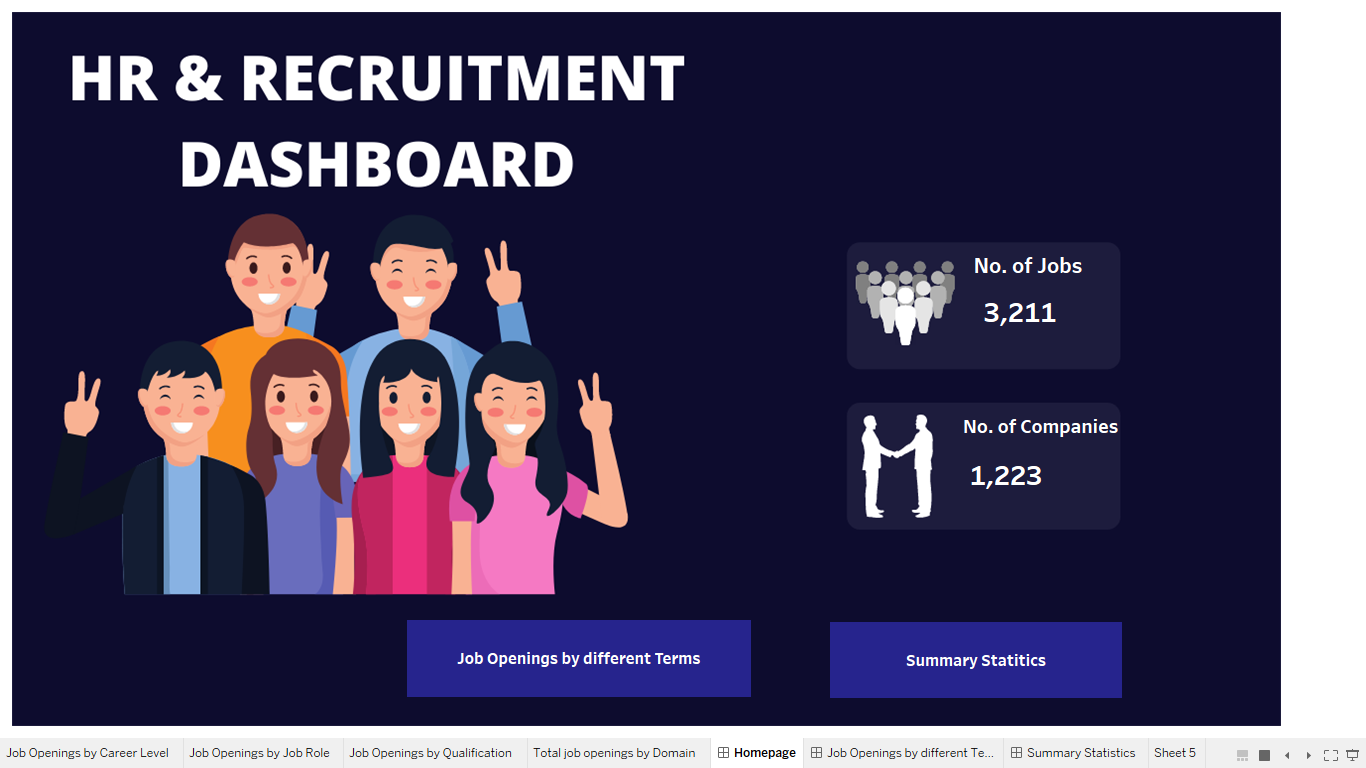

The dashboard page shown, as its layout file describes it:
{"tool":"tableau","page":{"name":"Homepage","canvas":[1000,1000],"units":"permille","ordinal":0},"visuals":[{"type":"worksheet","box":[0,0,1000,1000]},{"type":"worksheet","param":"vert","box":[6.9,13.5,986.1,973]},{"type":"worksheet","box":[6.9,13.5,986.1,973]},{"type":"worksheet","param":"C:/Users/Dinesh Kumar Verma/Downloads/Tableau Projects-20220403T035744Z-001/Tabl","box":[6.9,13.5,986.1,973]},{"type":"worksheet","box":[684.3,327.7,110.2,62.5]},{"type":"worksheet","box":[718.1,397,86.7,50.7]},{"type":"worksheet","box":[680,545.6,140.5,60.8]},{"type":"worksheet","box":[707.7,618.2,86.7,50.7]},{"type":"worksheet","box":[297.8,839.5,252,104.7]},{"type":"worksheet","box":[607.8,842.9,213.8,103]}]}

Visuals, with their boxes on the dashboard's canvas, which has no fixed pixel size, in thousandths of its width and height (x1, y1, x2, y2). These are canvas units, not pixel positions in the 1366x768 screenshot, which may show the page scaled, cropped or inside an application window:
worksheet: l=0, t=0, r=1000, b=1000
worksheet: l=7, t=14, r=993, b=986
worksheet: l=7, t=14, r=993, b=986
worksheet: l=7, t=14, r=993, b=986
worksheet: l=684, t=328, r=794, b=390
worksheet: l=718, t=397, r=805, b=448
worksheet: l=680, t=546, r=820, b=606
worksheet: l=708, t=618, r=794, b=669
worksheet: l=298, t=840, r=550, b=944
worksheet: l=608, t=843, r=822, b=946
